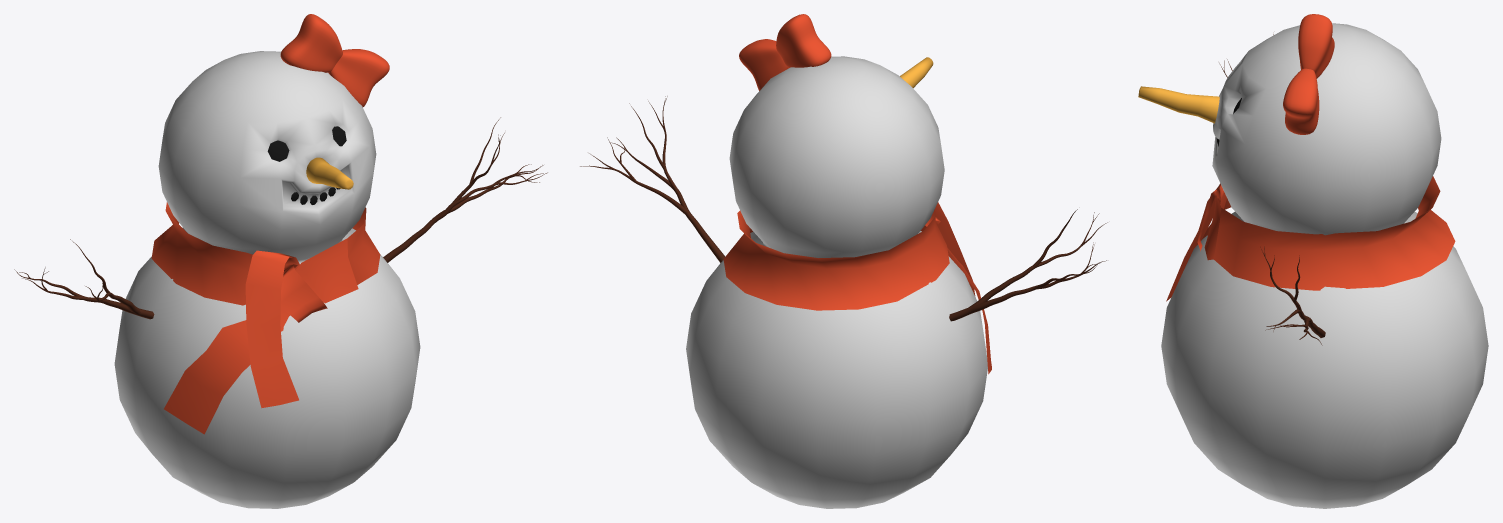
Rendered from snowman2.glb.
3 renders of one model, left to right at view 1: azimuth 30°, elevation 25°; view 2: azimuth 150°, elevation 25°; view 3: azimuth 270°, elevation 25°, orthographic. The views are drawn at different scales.
Visible parts, largest first — view 1: body, scarf, bow, left arm, Right arm, Nose; view 2: body, scarf, bow, Right arm, left arm; view 3: body, scarf, bow, Nose, left arm.
Part boxes in pixels (x1,y1,x2,y2): body: (114, 51, 420, 508); scarf: (151, 202, 380, 434); bow: (280, 14, 389, 107); left arm: (383, 117, 547, 262); Right arm: (14, 239, 154, 319); Nose: (306, 157, 353, 189); body: (686, 56, 987, 508); scarf: (723, 202, 991, 374); bow: (739, 14, 831, 90); Right arm: (949, 209, 1107, 321); left arm: (580, 96, 725, 262); body: (1161, 23, 1488, 508); scarf: (1166, 176, 1455, 301); bow: (1283, 14, 1334, 134); Nose: (1138, 86, 1219, 123); left arm: (1260, 246, 1325, 345).
Bounding box in the file's own units: 3.93 × 3.24 × 2.14.
